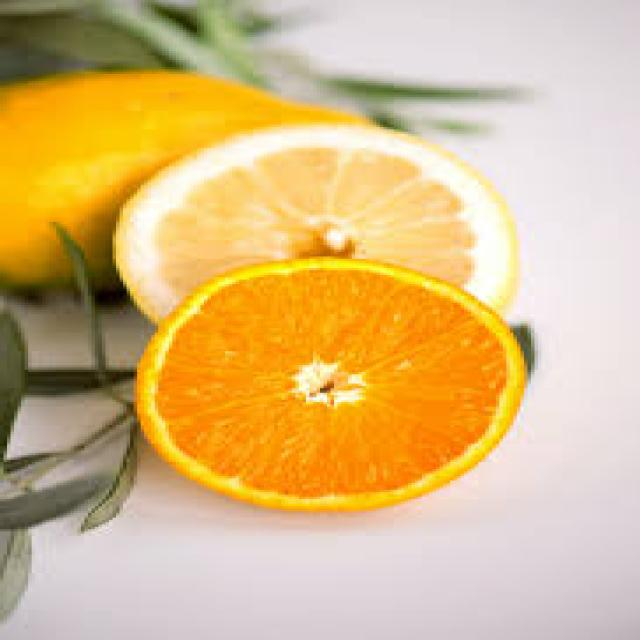orange: (138, 252, 558, 507)
